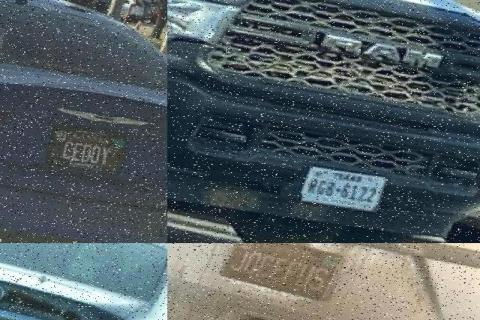LicensePlate: (216, 242, 344, 300), (40, 119, 129, 173), (295, 162, 387, 210)
